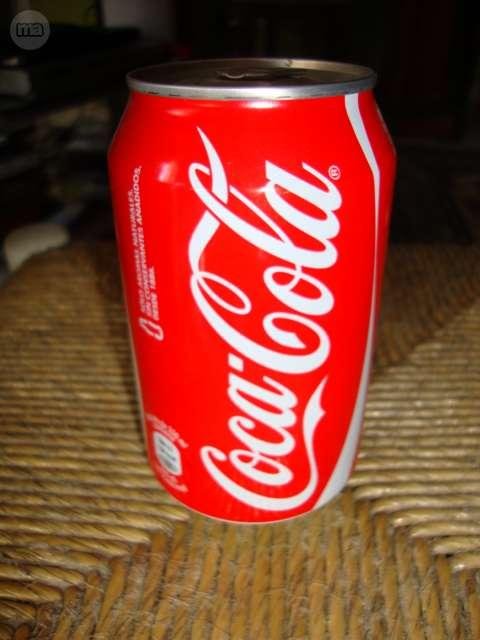metal: (109, 57, 395, 524)
